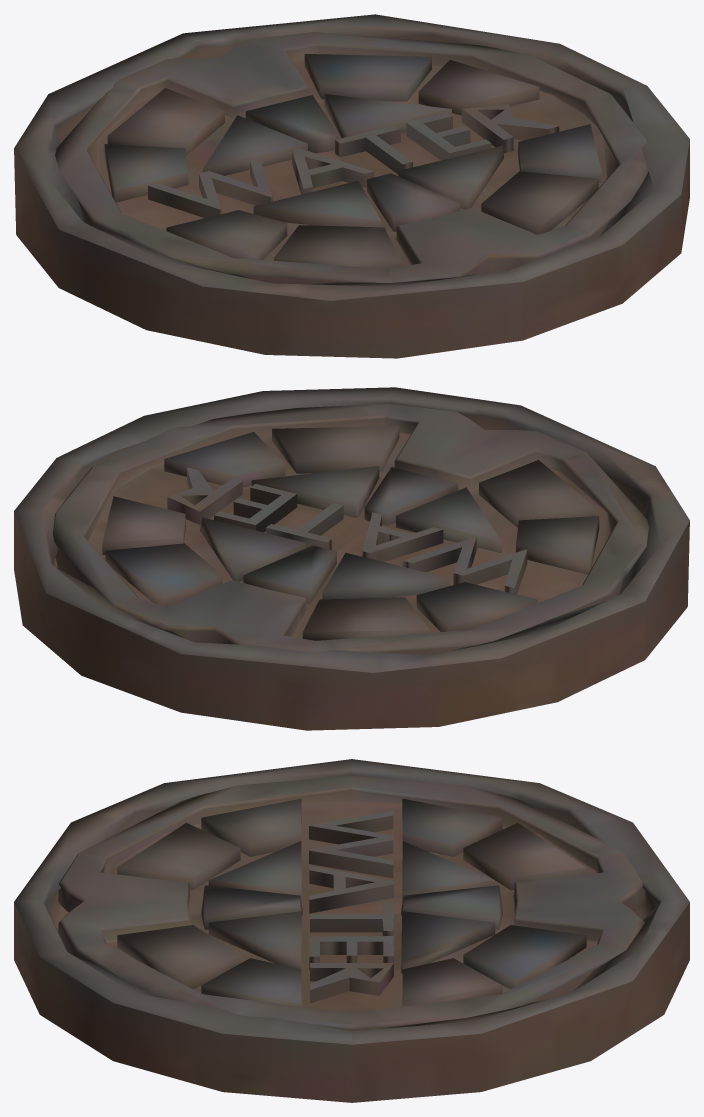
File: plaque_egout_lod1.glb
The picture shows the model from 3 angles, top to bottom: view 1: azimuth 30°, elevation 25°; view 2: azimuth 150°, elevation 25°; view 3: azimuth 270°, elevation 25°; orthographic projection.
Visible parts, largest first — view 1: water_manhole_cover_frame; view 2: water_manhole_cover_frame; view 3: water_manhole_cover_frame.
Part boxes in pixels (x1,y1,x2,y2): water_manhole_cover_frame: (14,14,689,358); water_manhole_cover_frame: (14,387,689,730); water_manhole_cover_frame: (14,759,689,1102).
Bounding box in the file's own units: 0.6908 × 0.0676 × 0.6908.
Materials: 1 (1 with a texture image).
